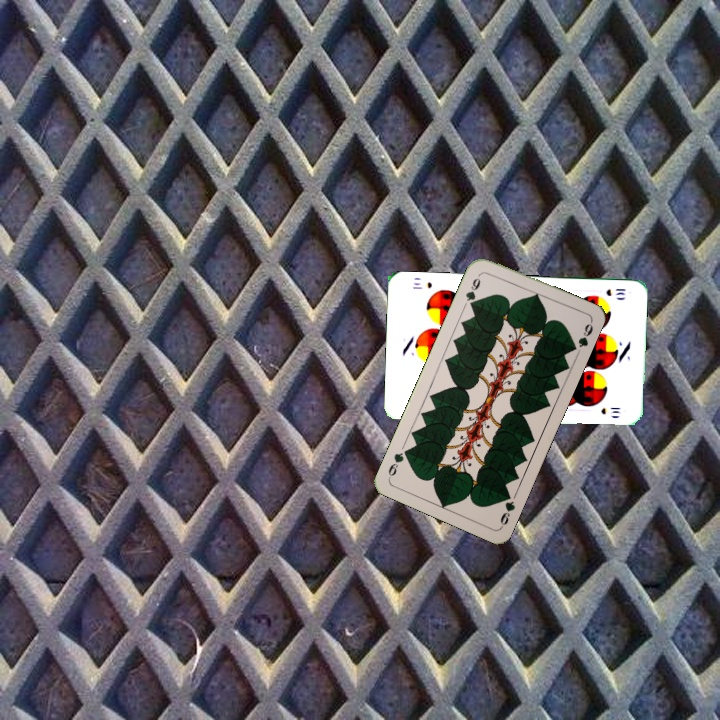G9: (496, 488, 518, 530), (461, 270, 484, 310)
S10: (602, 285, 628, 298)
